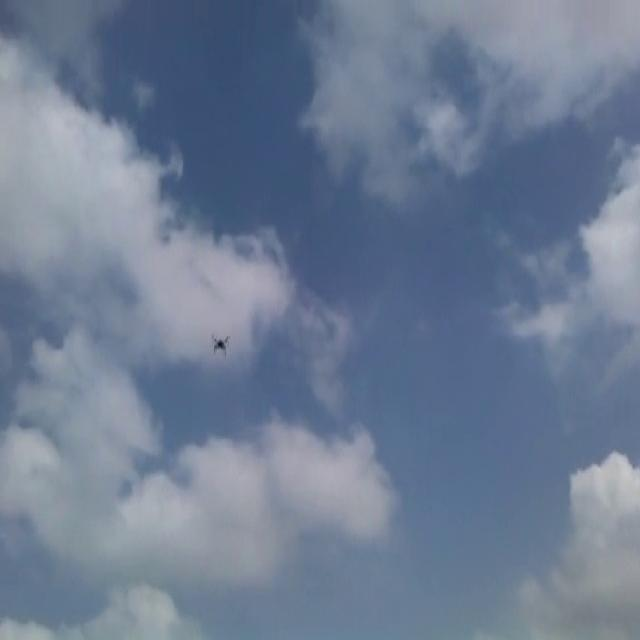drone: (209, 327, 231, 357)
